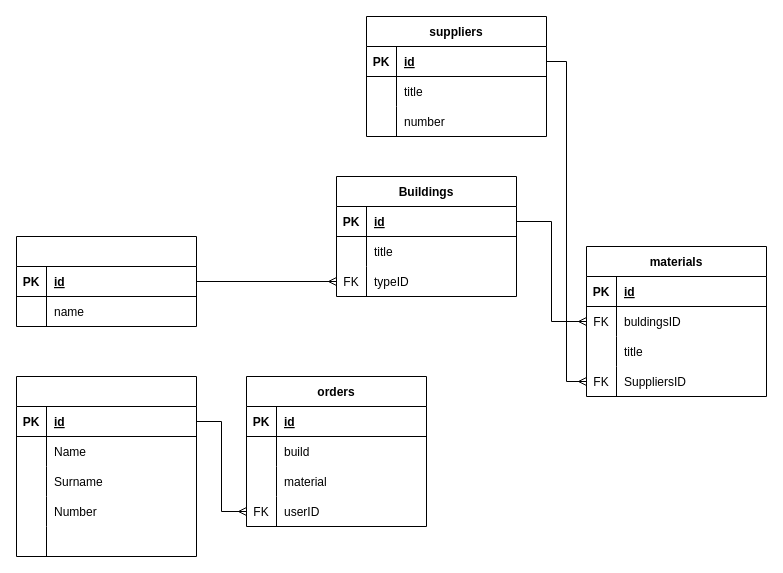
This 783x573 diagram has some shape labels left out. Each missing label, with the box of its shape:
type: (16, 236, 196, 326)
Users: (16, 376, 196, 556)
